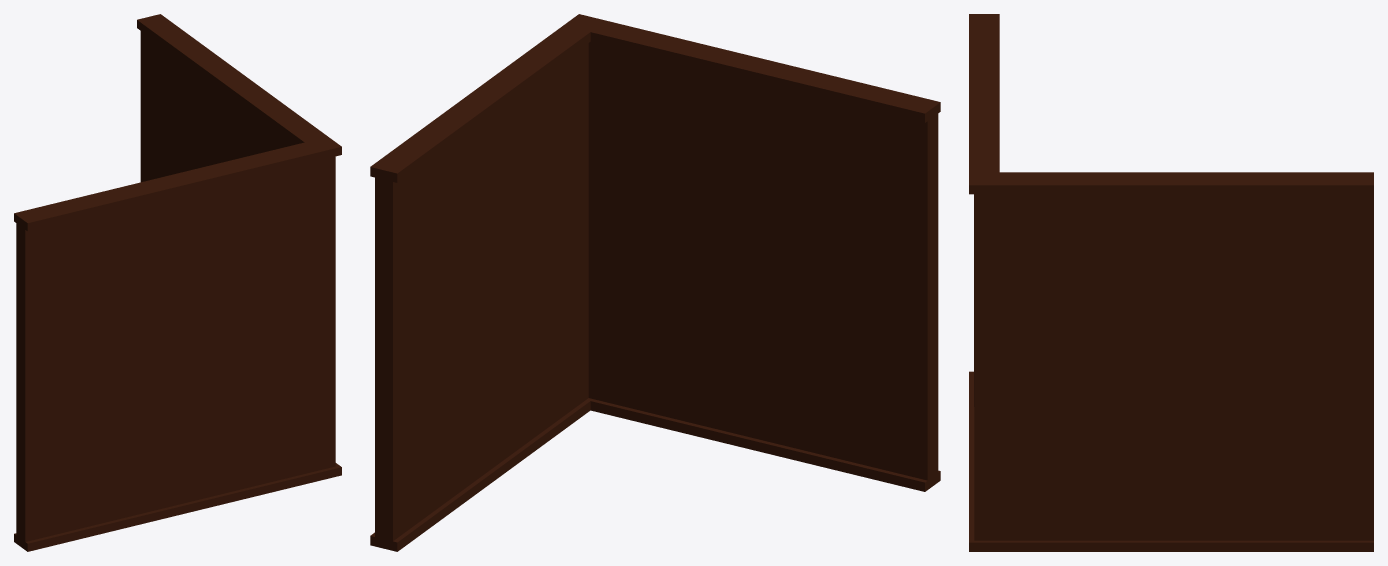
File: 8x8_wall_corner.obj
The picture shows the model from 3 angles, left to right: view 1: azimuth 30°, elevation 25°; view 2: azimuth 150°, elevation 25°; view 3: azimuth 270°, elevation 25°; orthographic projection. The views are drawn at different scales.
Parts seen in each view (by area): view 1: wall; view 2: wall; view 3: wall.
Part boxes in pixels (x1,y1,x2,y2): wall: [14, 14, 341, 551]; wall: [370, 14, 940, 551]; wall: [969, 14, 1373, 551].
Size of the model in its own units: 8 by 8 by 8.
